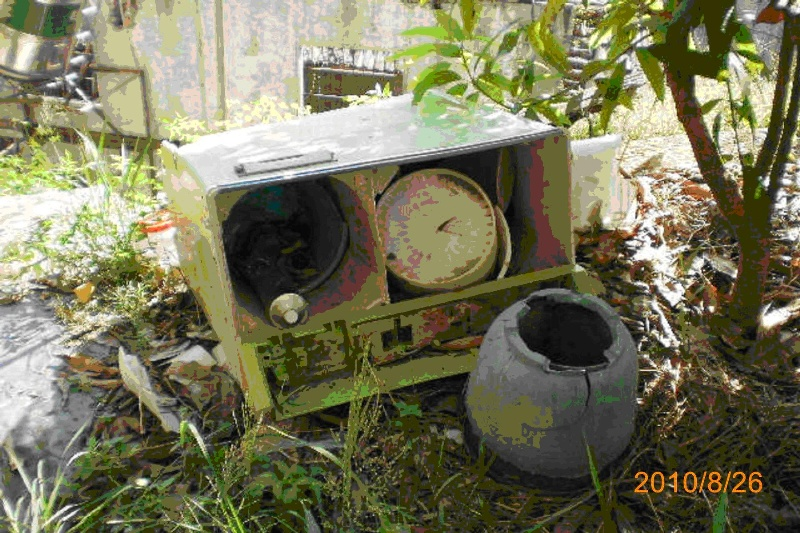bowl: (461, 287, 638, 489)
